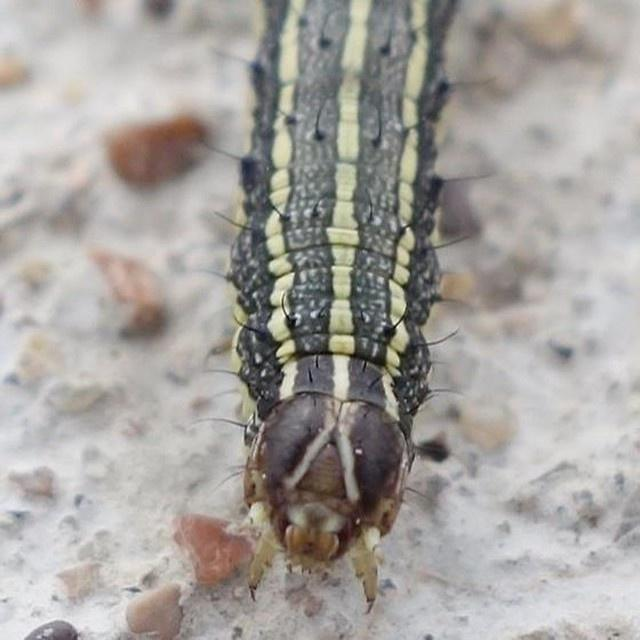gusano_cogollero: (226, 0, 464, 604)
